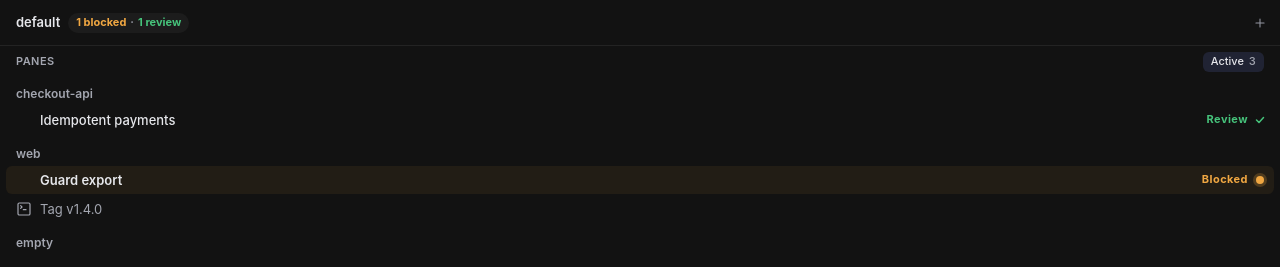
Test: AgentList › protect › protects any pane from its menu, and remembers it
Right-click the button "Tag v1.4.0".
right_click(71, 209)  # box [6,195,1274,223]
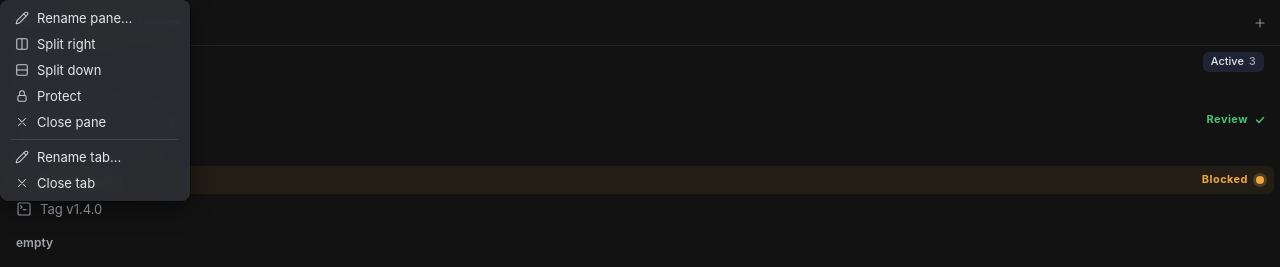
Click the menu item "Protect".
click(95, 96)  # box [5,83,185,109]
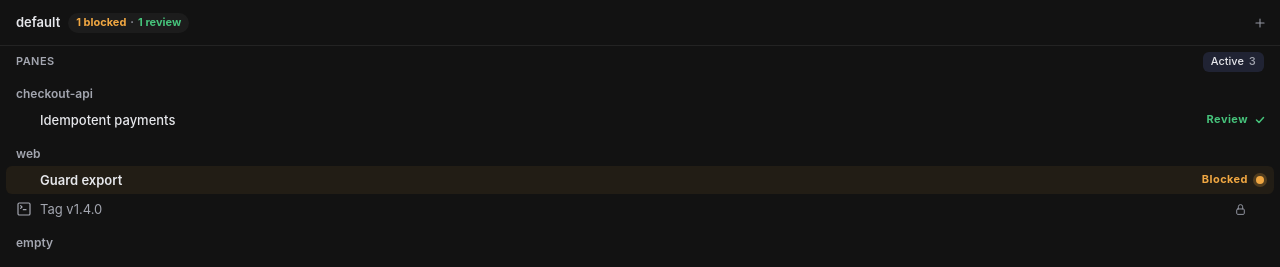
Now the picture named "Protected: Tag v1.4.0" is shown, box [1234,202,1246,216]
